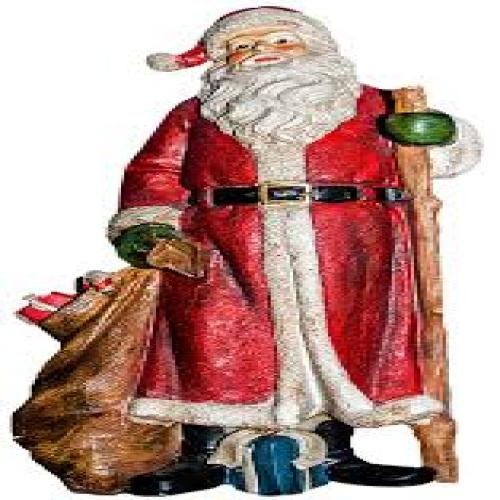Santa: (111, 4, 483, 496)
